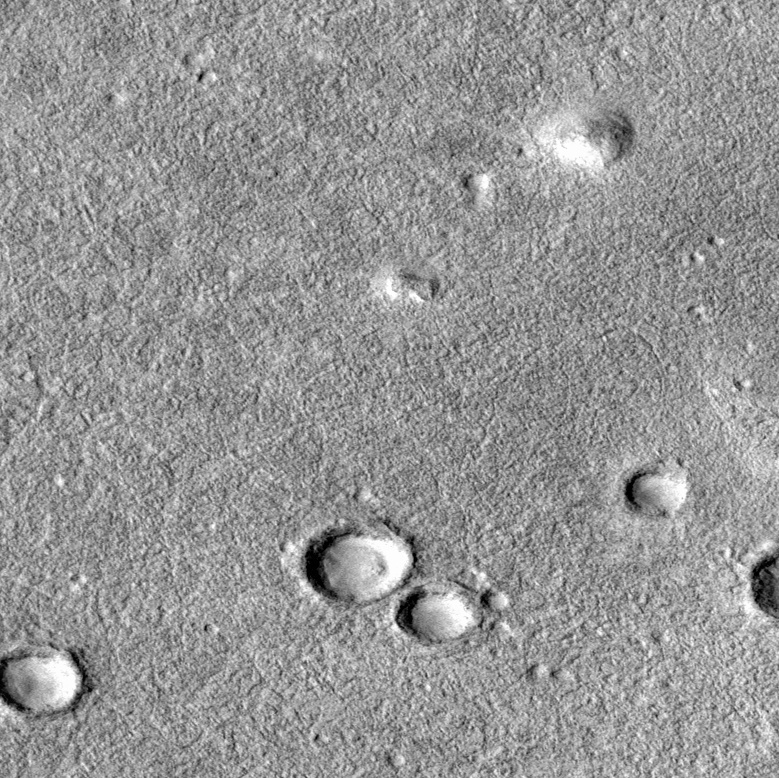dust_devil: (383, 271, 440, 303)
